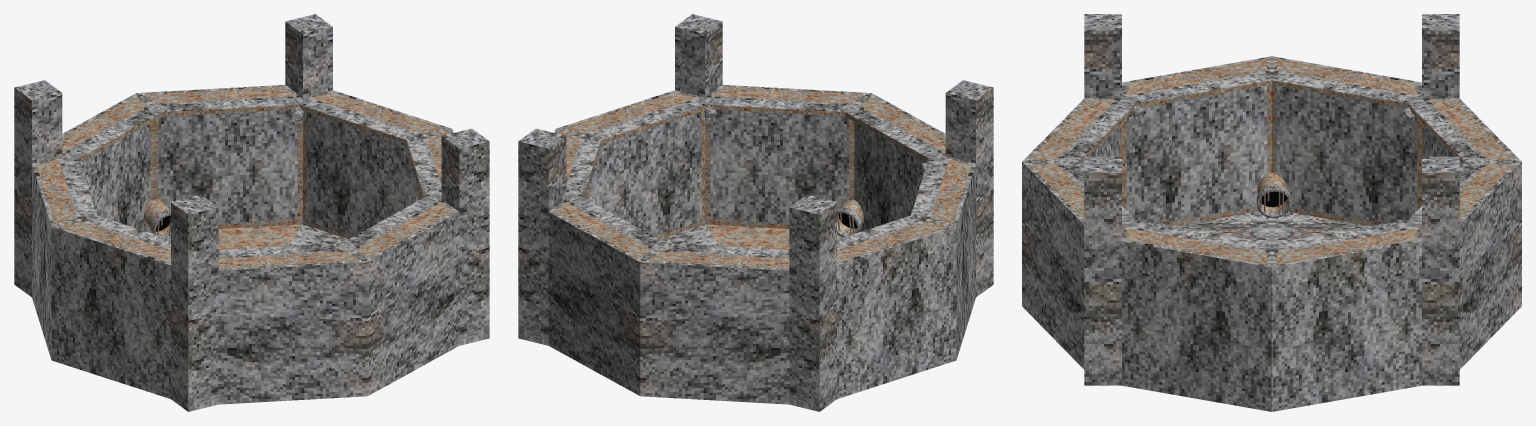
The model's file is ArenaFix.fbx.
The picture shows the model from 3 angles, left to right: view 1: azimuth 30°, elevation 25°; view 2: azimuth 150°, elevation 25°; view 3: azimuth 270°, elevation 25°; orthographic projection. The views are drawn at different scales.
Parts seen in each view (by area): view 1: Cube, Cylinder.002; view 2: Cube, Cylinder.003; view 3: Cube, Cylinder.
Part boxes in pixels (box(x1,y1,x2,y2)): Cube: box(14, 14, 489, 411); Cylinder.002: box(144, 199, 170, 238); Cube: box(518, 14, 993, 411); Cylinder.003: box(837, 199, 863, 237); Cube: box(1022, 14, 1521, 411); Cylinder: box(1256, 172, 1291, 218).
Size of the model in its own units: 2537 by 1193 by 2537.
Materials: 4 (2 with a texture image).
